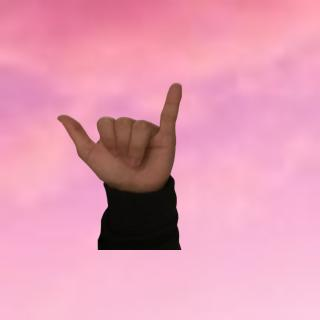HAVE: (42, 74, 193, 207)
